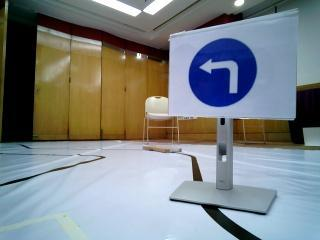left: (173, 35, 291, 115)
